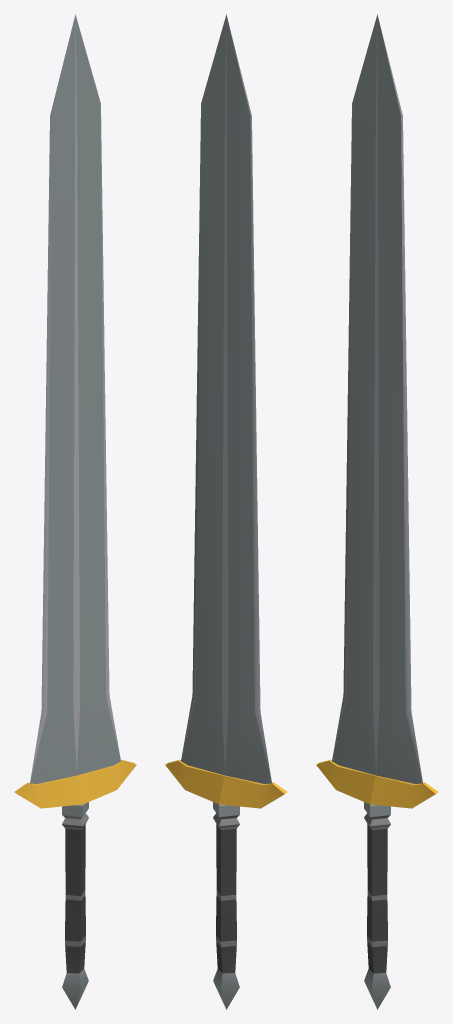
Rendered from Sword_7.fbx.
3 views of the same model, side by side, from view 1: azimuth 30°, elevation 25°; view 2: azimuth 150°, elevation 25°; view 3: azimuth 330°, elevation 25° (orthographic).
Parts seen in each view (by area): view 1: polySurface464; view 2: polySurface464; view 3: polySurface464.
Boxes of the visible parts, <box> form: polySurface464: <box>14,14,136,1009</box>; polySurface464: <box>165,14,287,1009</box>; polySurface464: <box>316,14,438,1009</box>.
Size of the model in its own units: 64.12 by 510 by 14.37.
